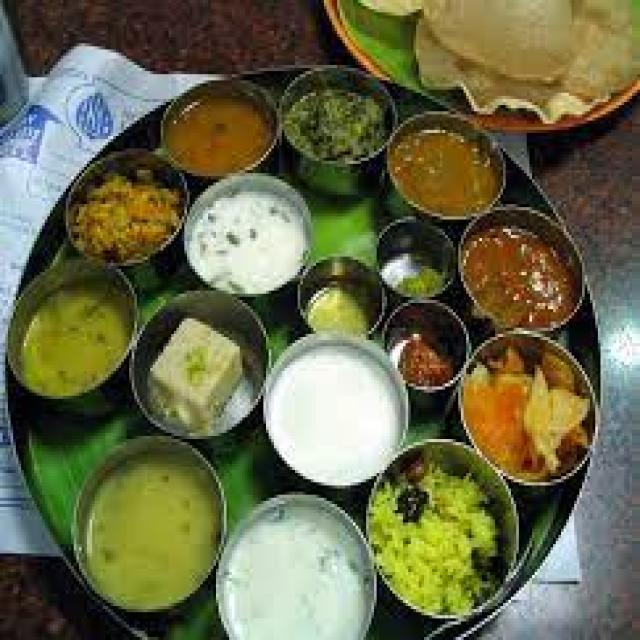curd: (257, 338, 412, 490), (212, 501, 378, 640), (182, 171, 321, 301)
dal: (16, 277, 136, 393)
papad: (408, 0, 637, 119)
rice: (185, 177, 321, 299)
sambar-rasam: (454, 214, 578, 332), (158, 73, 286, 185), (385, 117, 501, 217), (388, 305, 467, 388)
veg-fry: (63, 145, 186, 266)
